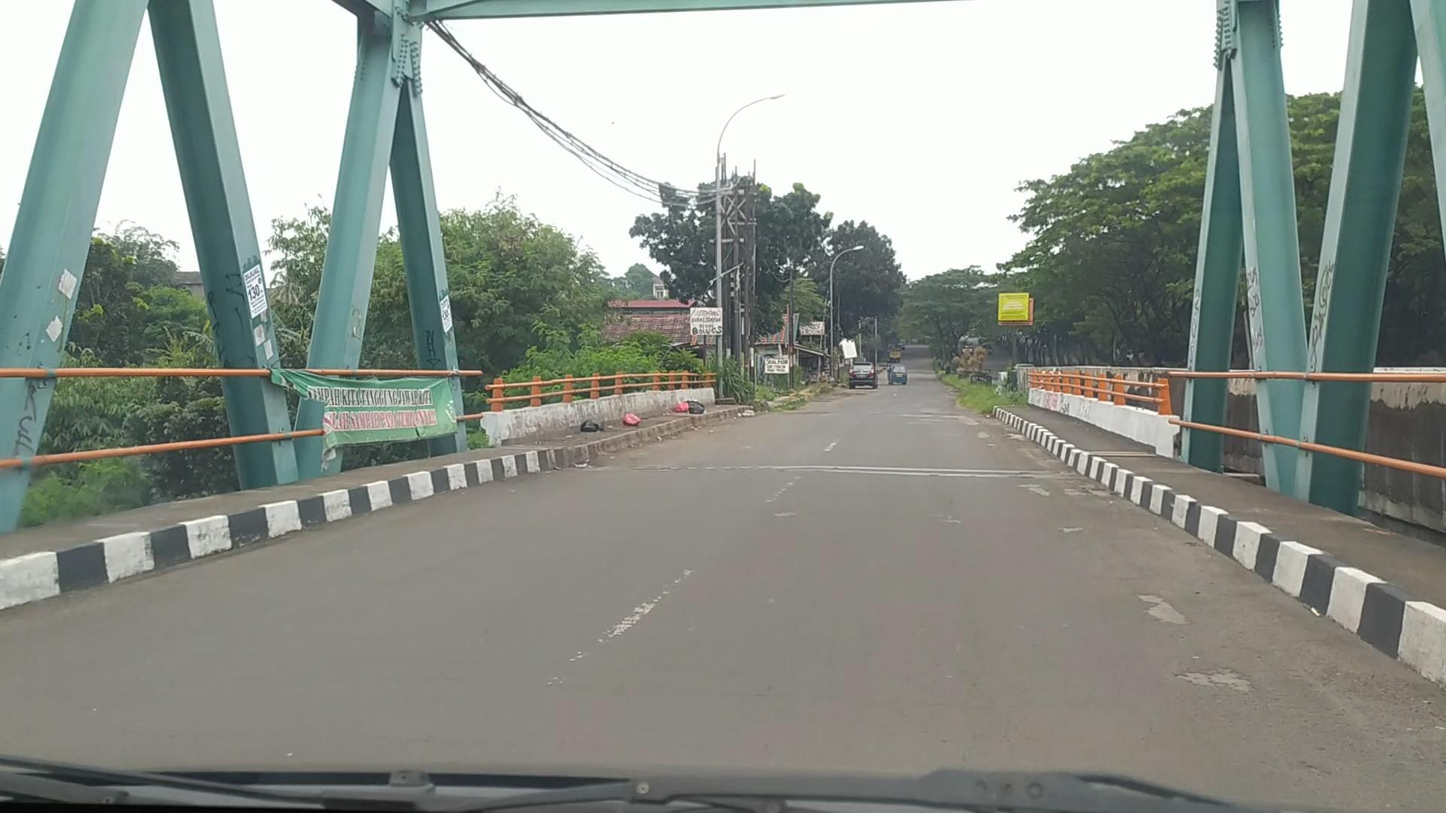pothole: (1170, 668, 1254, 695), (1131, 593, 1190, 626)
